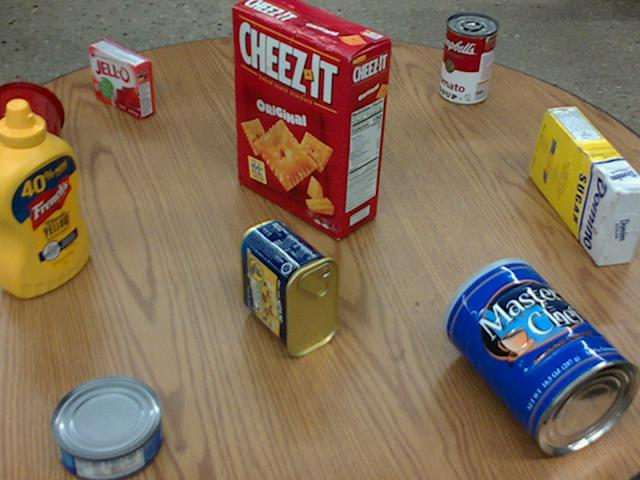cracker_box: (232, 0, 391, 236)
gelatin_box: (93, 40, 157, 118)
large_marker: (245, 0, 259, 62)
master_chef_can: (442, 257, 639, 453)
mug: (0, 81, 66, 182)
mustard_bottle: (0, 98, 91, 297)
potted_meat_can: (238, 219, 340, 357)
sugar_box: (530, 107, 639, 266)
tomato_soup_can: (440, 12, 499, 104)
tuna_fish_can: (50, 375, 162, 479)
